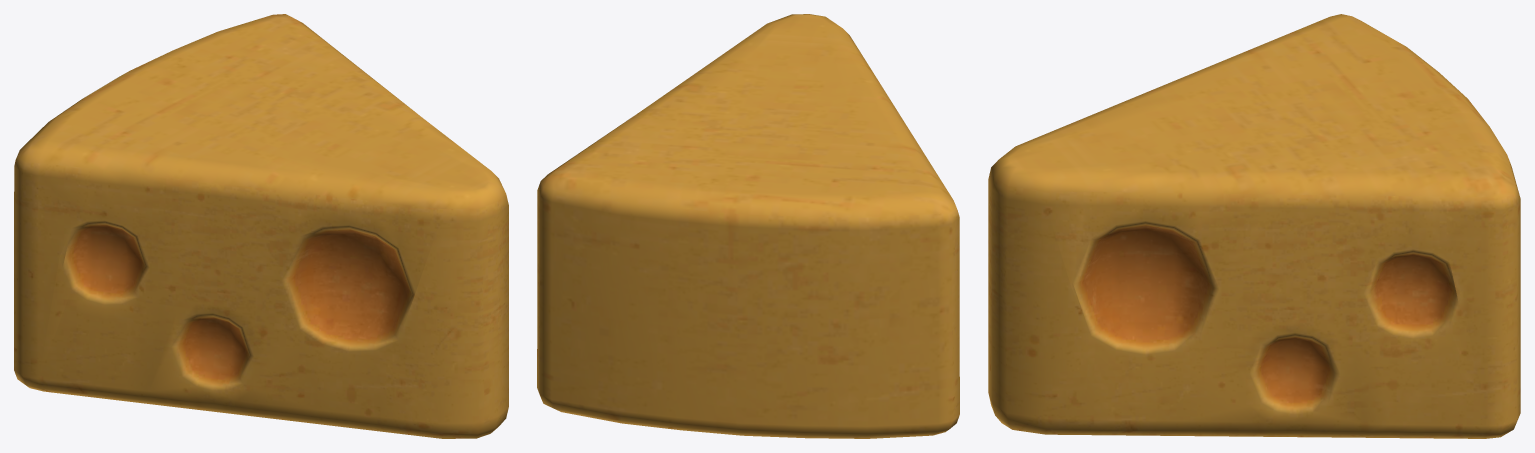
The model's file is 0-cheese.fbx.
The picture shows the model from 3 angles, left to right: view 1: azimuth 30°, elevation 25°; view 2: azimuth 150°, elevation 25°; view 3: azimuth 270°, elevation 25°; orthographic projection. The views are drawn at different scales.
Parts seen in each view (by area): view 1: 0-cheese; view 2: 0-cheese; view 3: 0-cheese.
Boxes of the visible parts, x1,y1,x2,y2 form: 0-cheese: (14,14,508,438); 0-cheese: (537,14,959,438); 0-cheese: (988,14,1520,438).
Size of the model in its own units: 75.3 by 49.91 by 91.89.
